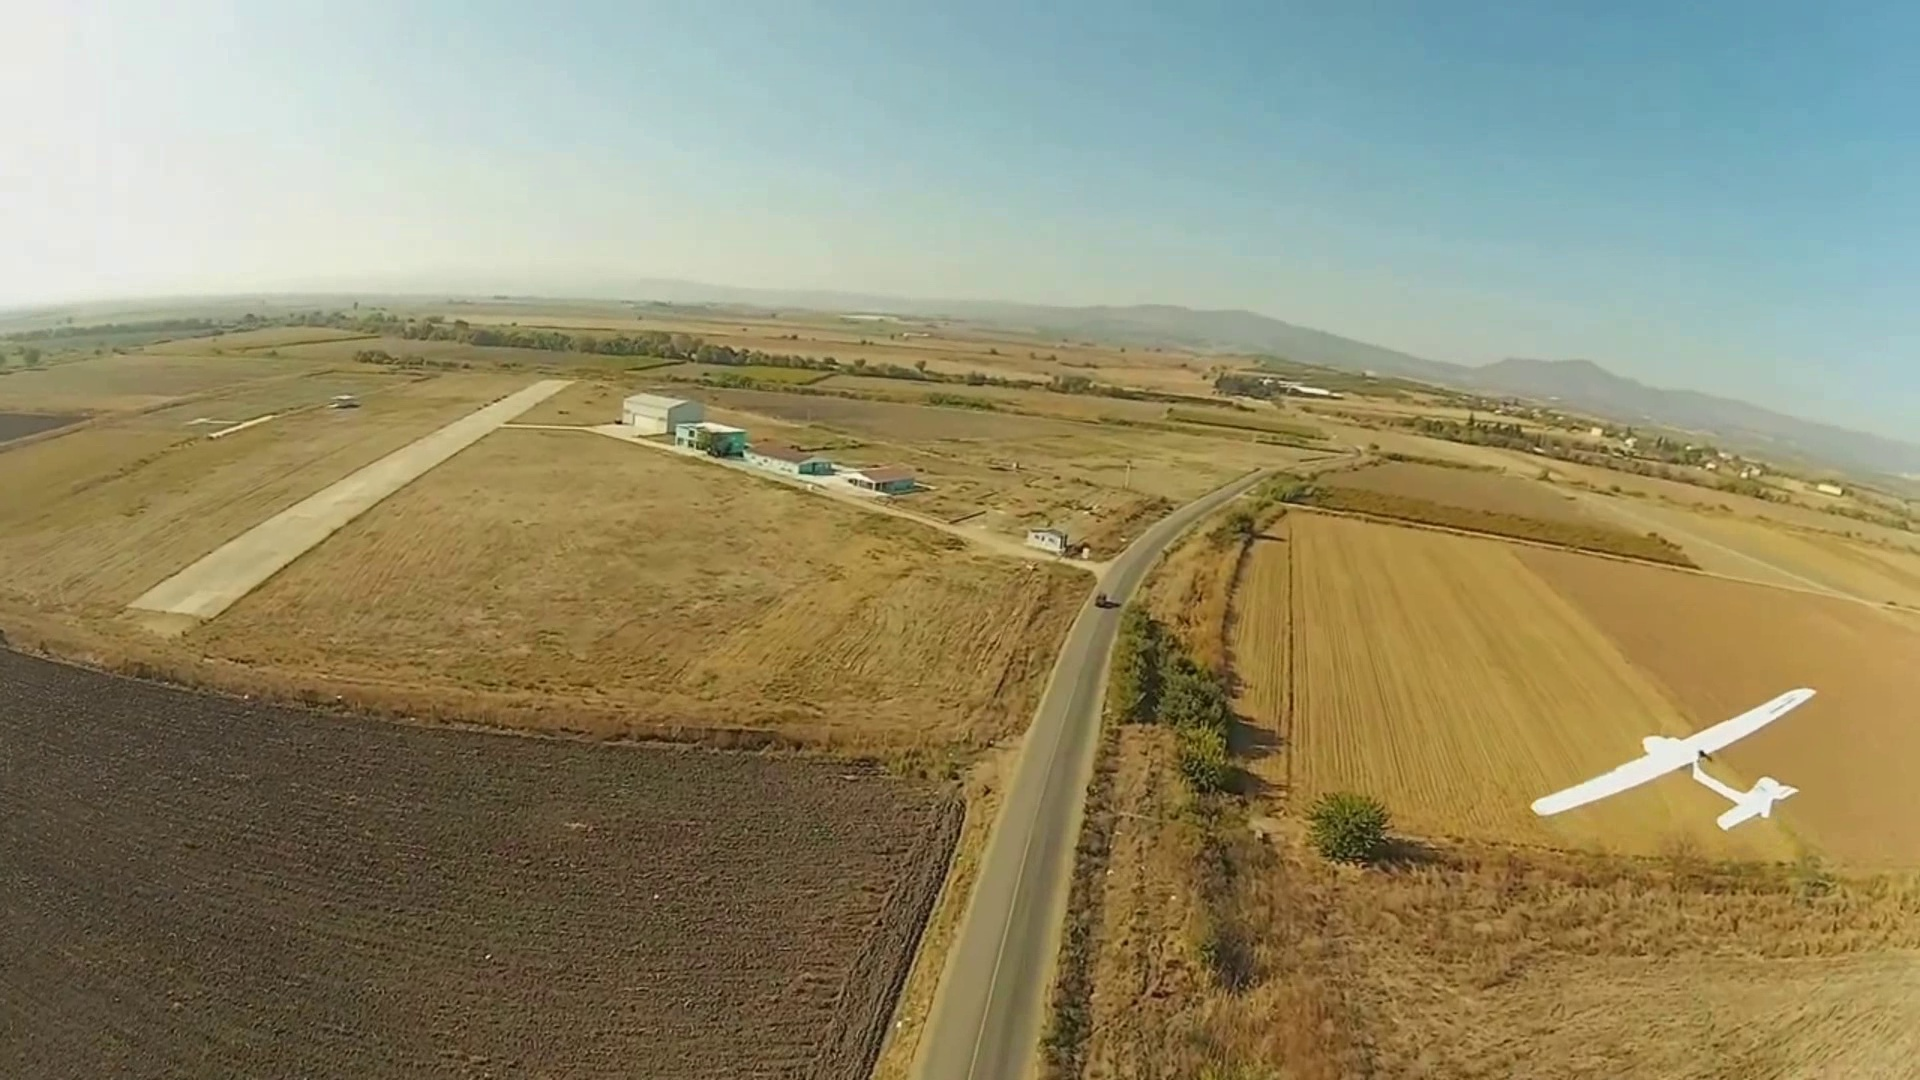airplane: (1529, 687, 1915, 879), (1529, 686, 1820, 843)
